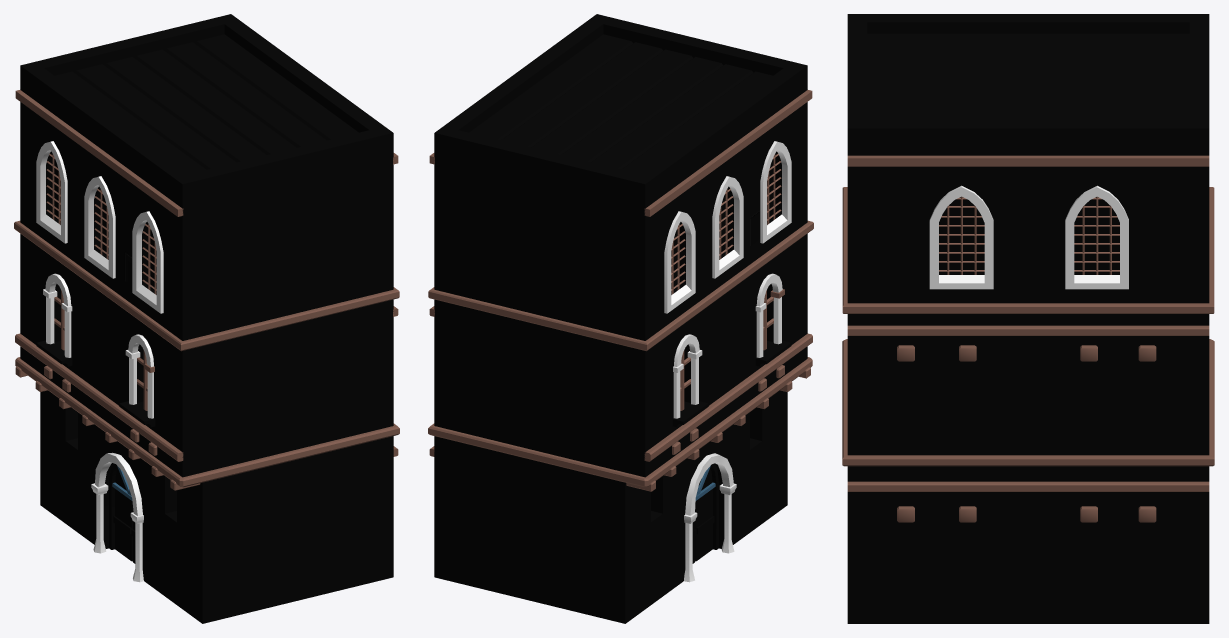
File: civilian_house_28.FBX
3 renders of one model, left to right at view 1: azimuth 30°, elevation 25°; view 2: azimuth 150°, elevation 25°; view 3: azimuth 270°, elevation 25°, orthographic. The views are drawn at different scales.
Parts seen in each view (by area): view 1: civilian_house_28_LOD0; view 2: civilian_house_28_LOD0; view 3: civilian_house_28_LOD0.
Boxes of the visible parts, x1,y1,x2,y2 form: civilian_house_28_LOD0: (14,14,399,623); civilian_house_28_LOD0: (428,14,813,623); civilian_house_28_LOD0: (842,14,1214,623).
Size of what is drawn, in the model's own units: 649 by 1208 by 823.
